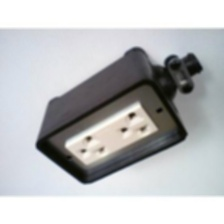three_eye_plug: (34, 44, 189, 186)
